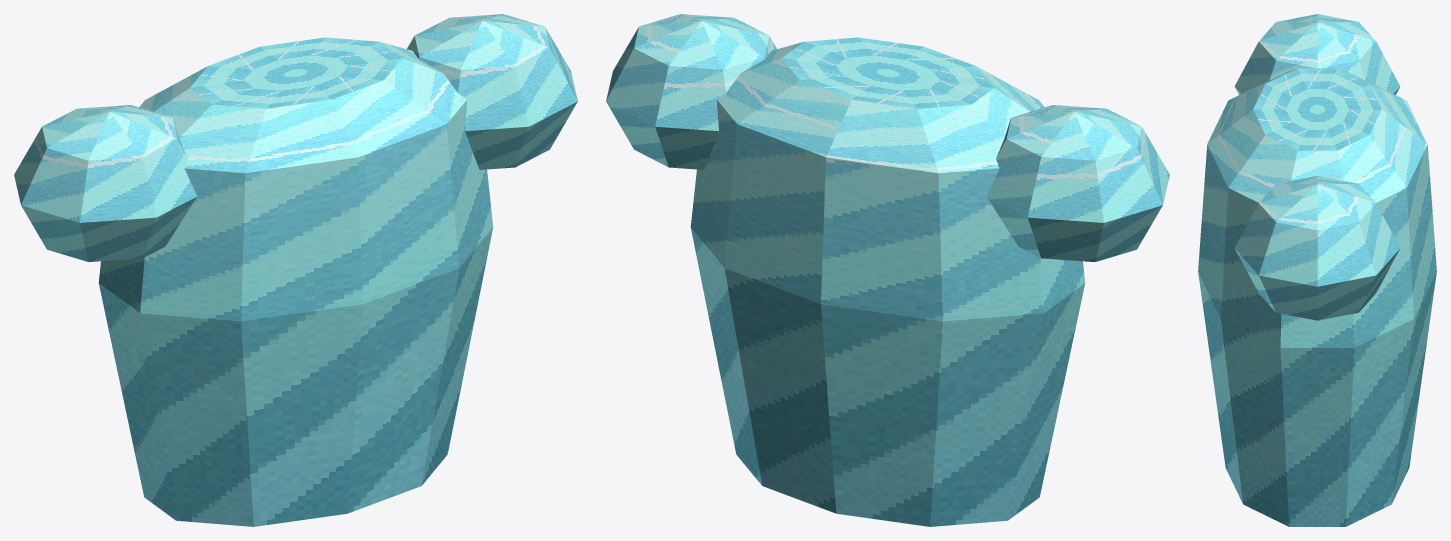
Rendered from peitoral_de_diamante.glb.
3 renders of one model, left to right at view 1: azimuth 30°, elevation 25°; view 2: azimuth 150°, elevation 25°; view 3: azimuth 270°, elevation 25°, orthographic. The views are drawn at different scales.
Parts seen in each view (by area): view 1: peitoral_de_diamante; view 2: peitoral_de_diamante; view 3: peitoral_de_diamante.
Boxes of the visible parts, x1=… form: peitoral_de_diamante: x1=14, y1=14, x2=577, y2=526; peitoral_de_diamante: x1=606, y1=14, x2=1169, y2=526; peitoral_de_diamante: x1=1198, y1=14, x2=1436, y2=526.
Size of the model in its own units: 0.886 by 0.6305 by 0.3744.
1 material, 1 textured.
